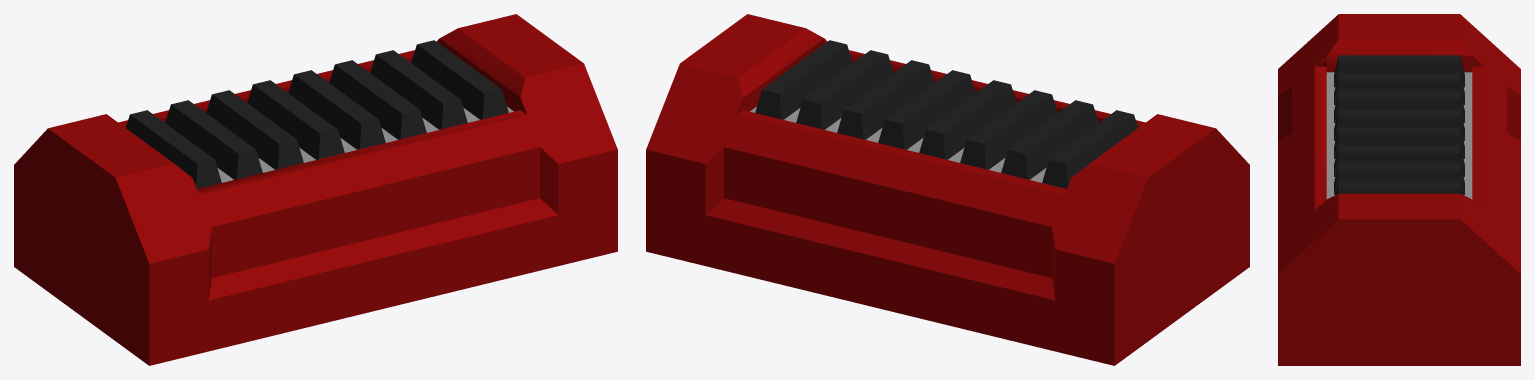
File: SM_ChunkyVent.fbx
3 views of the same model, side by side, from view 1: azimuth 30°, elevation 25°; view 2: azimuth 150°, elevation 25°; view 3: azimuth 270°, elevation 25° (orthographic). The views are drawn at different scales.
Visible parts, largest first — view 1: group_0.009; view 2: group_0.009; view 3: group_0.009.
Boxes of the visible parts, bbox=[...] form: group_0.009: bbox=[14, 14, 617, 365]; group_0.009: bbox=[646, 14, 1249, 365]; group_0.009: bbox=[1278, 14, 1520, 365].
Bounding box in the file's own units: 300 × 100 × 150.
